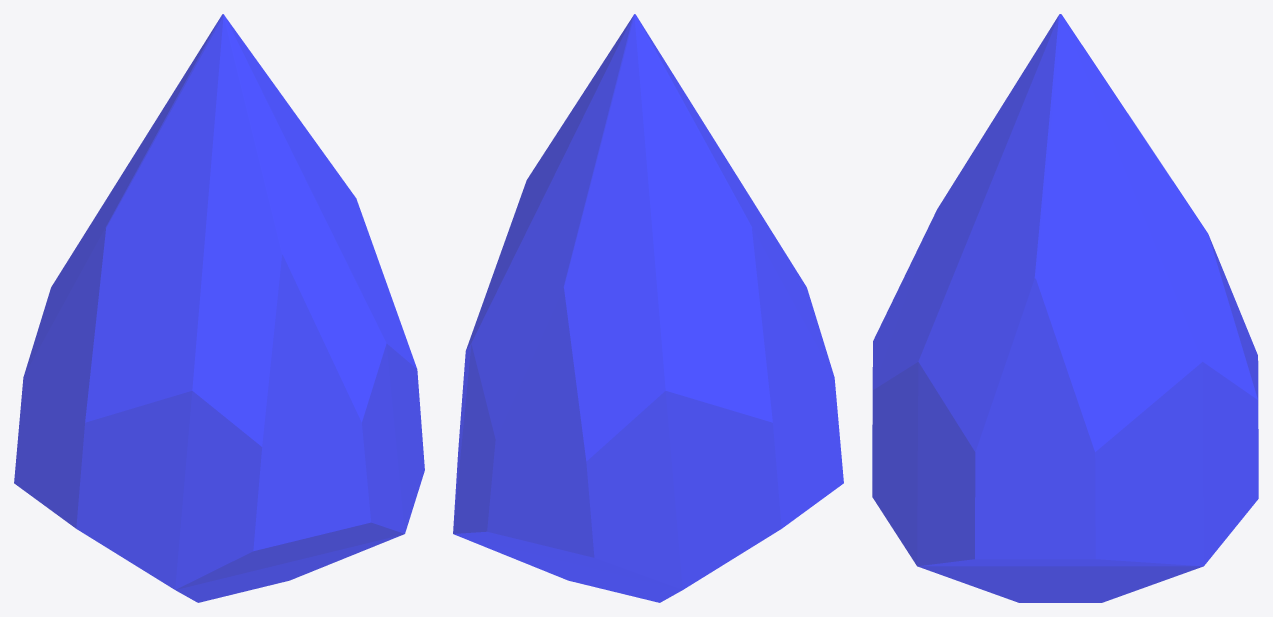
File: Dusk_Gem.fbx
3 views of the same model, side by side, from view 1: azimuth 30°, elevation 25°; view 2: azimuth 150°, elevation 25°; view 3: azimuth 270°, elevation 25° (orthographic).
Visible parts, largest first — view 1: pCube3; view 2: pCube3; view 3: pCube3.
Boxes of the visible parts, left/top/right/bottom form: pCube3: left=14, top=14, right=424, bottom=602; pCube3: left=453, top=14, right=843, bottom=602; pCube3: left=872, top=14, right=1258, bottom=602.
Bounding box in the file's own units: 1.1 × 1.75 × 1.08.
